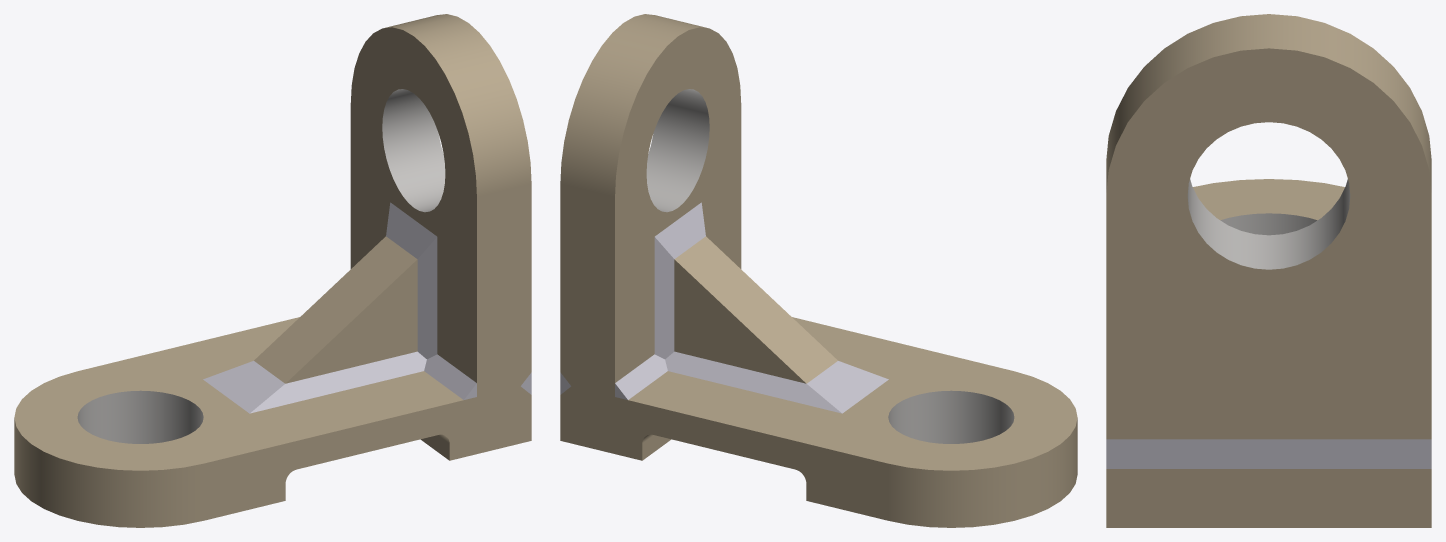
3 views of the same model, side by side, from view 1: azimuth 30°, elevation 25°; view 2: azimuth 150°, elevation 25°; view 3: azimuth 270°, elevation 25° (orthographic). The views are drawn at different scales.
Visible parts, largest first — view 1: s9_15_1:1, s9_15_2:1, s9_15_3:1, s9_15_Welds:1; view 2: s9_15_1:1, s9_15_2:1, s9_15_3:1, s9_15_Welds:1; view 3: s9_15_2:1, s9_15_1:1, s9_15_Welds:1.
Boxes of the visible parts, x1,y1,x2,y2 form: s9_15_1:1: (14, 317, 531, 527); s9_15_2:1: (350, 14, 531, 396); s9_15_3:1: (254, 236, 417, 383); s9_15_Welds:1: (203, 202, 531, 413); s9_15_1:1: (560, 317, 1077, 527); s9_15_2:1: (560, 14, 741, 396); s9_15_3:1: (674, 236, 837, 383); s9_15_Welds:1: (560, 202, 888, 413); s9_15_2:1: (1106, 14, 1431, 439); s9_15_1:1: (1106, 179, 1431, 527); s9_15_Welds:1: (1106, 439, 1431, 468).
Bounding box in the file's own units: 0.16 × 0.13 × 0.08.
